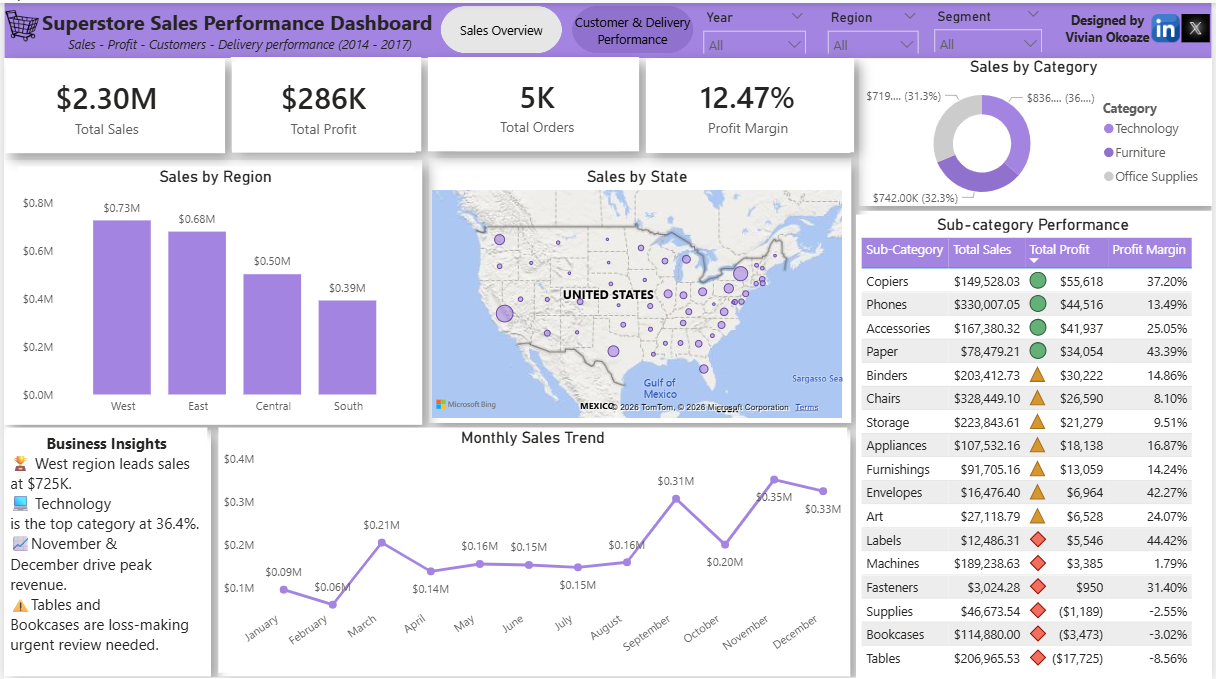

Layout of this report page (visuals, bound fields, positions):
{"tool":"powerbi","page":{"name":"Sales Overview","canvas":[1280,720],"ordinal":0},"visuals":[{"type":"columnChart","title":"Sales by Region","fields":{"Category":["Sample - Superstore.Region"],"Y":["Sample - Superstore.Total Sales"]},"box":[14.3,173.2,419.6,271.4],"z":0},{"type":"lineChart","title":"Monthly Sales Trend","fields":{"Category":["Sample - Superstore.Month Name"],"Y":["Sample - Superstore.Total Sales"]},"box":[226.7,450,666.7,260],"z":1000},{"type":"donutChart","title":"Sales by Category","fields":{"Y":["Sample - Superstore.Total Sales"],"Category":["Sample - Superstore.Category"]},"box":[903.3,56.7,376.7,163.3],"z":2000},{"type":"map","title":" Sales by State ","fields":{"Size":["Sample - Superstore.Total Sales"],"Category":["Sample - Superstore.State"]},"box":[448.6,173.4,445.4,272],"z":3000},{"type":"tableEx","title":"Sub-category Performance","fields":{"Values":["Sample - Superstore.Sub-Category","Sample - Superstore.Total Sales","Sample - Superstore.Total Profit","Sample - Superstore.Profit Margin"]},"box":[903.3,225,375,493.3],"z":4000},{"type":"cardVisual","fields":{"Data":["Sample - Superstore.Total Sales"]},"box":[23.3,61.7,170,96.7],"z":5000},{"type":"cardVisual","fields":{"Data":["Sample - Superstore.Total Profit"]},"box":[241.1,62.5,194.6,96.4],"z":6000},{"type":"cardVisual","fields":{"Data":["Sample - Superstore.Profit Margin"]},"box":[680,60,216.7,98.3],"z":7000},{"type":"cardVisual","fields":{"Data":["Sample - Superstore.Total Orders"]},"box":[478.3,60,173.3,96.7],"z":8000},{"type":"textbox","box":[30,0,440,56.7],"z":9000},{"type":"pageNavigator","box":[462.9,3.2,268.8,50.9],"z":10000},{"type":"slicer","fields":{"Values":["Sample - Superstore.Year"]},"box":[732.1,1.8,128.6,51.8],"z":11000},{"type":"slicer","fields":{"Values":["Sample - Superstore.Region"]},"box":[864.3,1.8,116.1,51.8],"z":12000},{"type":"textbox","box":[1110.7,3.6,119.6,50],"z":13000},{"type":"textbox","box":[1.8,450,214.3,260.7],"z":14000},{"type":"slicer","fields":{"Values":["Sample - Superstore.Segment"]},"box":[976.8,0,133.9,51.8],"z":15000},{"type":"image","box":[0,0,38.8,46.2],"z":16000},{"type":"image","box":[1216.7,6.7,30,40],"z":17000},{"type":"image","box":[1248.3,6.7,30,40],"z":18000}]}

Visuals, with their boxes in screenshot pixels (x1, y1, x2, y2), scaled from the page's 1280x720 canvas onto the 1216x679 screenshot:
"Sales by Region" columnChart: x1=14 y1=163 x2=412 y2=419
"Monthly Sales Trend" lineChart: x1=215 y1=424 x2=849 y2=670
"Sales by Category" donutChart: x1=858 y1=53 x2=1215 y2=207
" Sales by State " map: x1=426 y1=164 x2=849 y2=420
"Sub-category Performance" tableEx: x1=858 y1=212 x2=1214 y2=677
cardVisual - Sample - Superstore.Total Sales: x1=22 y1=58 x2=184 y2=149
cardVisual - Sample - Superstore.Total Profit: x1=229 y1=59 x2=414 y2=150
cardVisual - Sample - Superstore.Profit Margin: x1=646 y1=57 x2=852 y2=149
cardVisual - Sample - Superstore.Total Orders: x1=454 y1=57 x2=619 y2=148
textbox: x1=28 y1=0 x2=446 y2=53
pageNavigator: x1=440 y1=3 x2=695 y2=51
slicer - Sample - Superstore.Year: x1=695 y1=2 x2=818 y2=51
slicer - Sample - Superstore.Region: x1=821 y1=2 x2=931 y2=51
textbox: x1=1055 y1=3 x2=1169 y2=51
textbox: x1=2 y1=424 x2=205 y2=670
slicer - Sample - Superstore.Segment: x1=928 y1=0 x2=1055 y2=49
image: x1=0 y1=0 x2=37 y2=44
image: x1=1156 y1=6 x2=1184 y2=44
image: x1=1186 y1=6 x2=1214 y2=44
